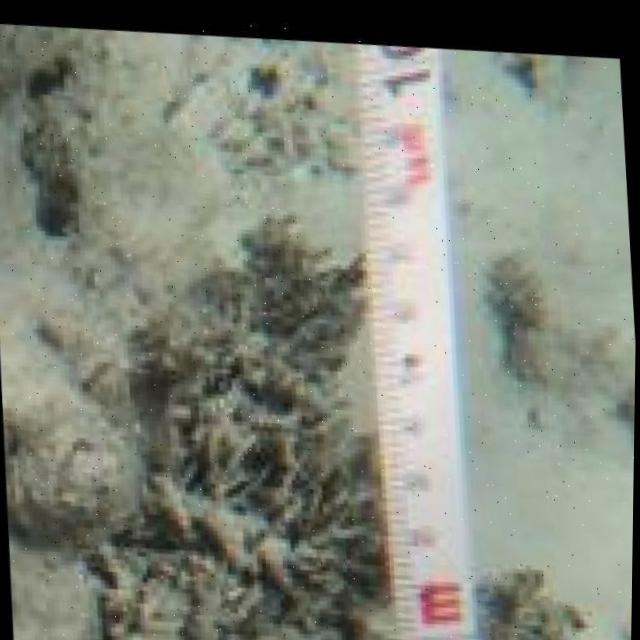Dead Coral: (62, 184, 401, 640)
